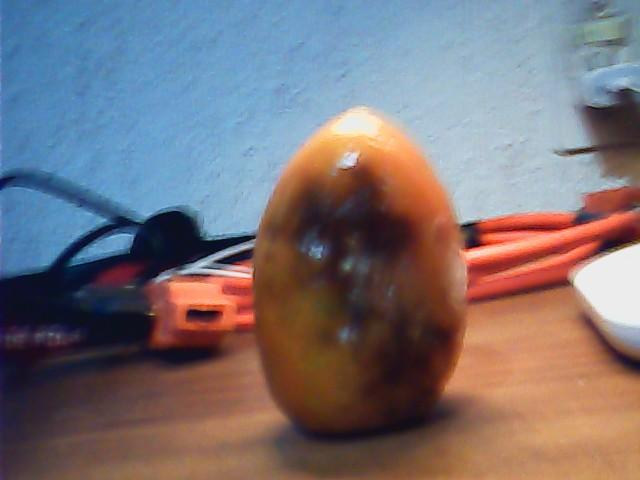defectuoso: (251, 103, 469, 437)
